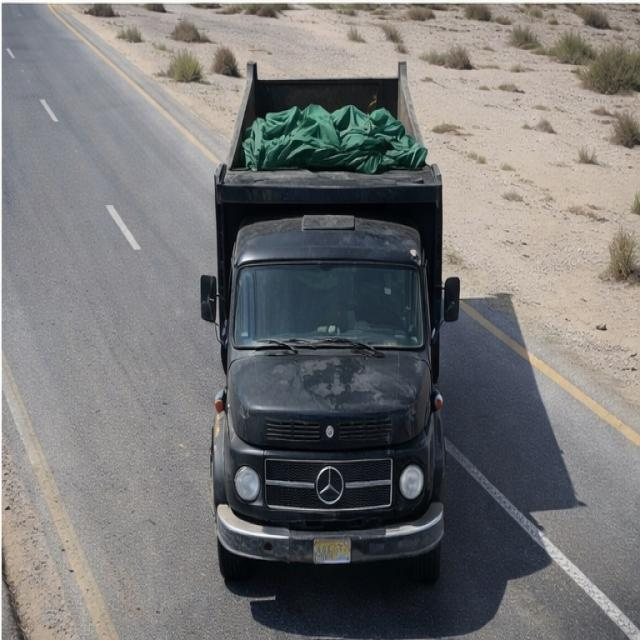Box: (216, 54, 449, 206)
Truck: (196, 32, 462, 576)
